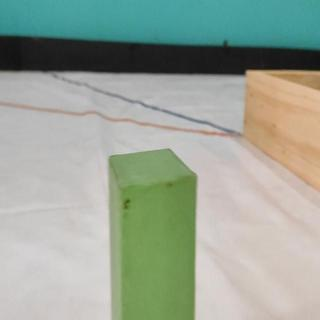greenbox: (107, 146, 198, 320)
